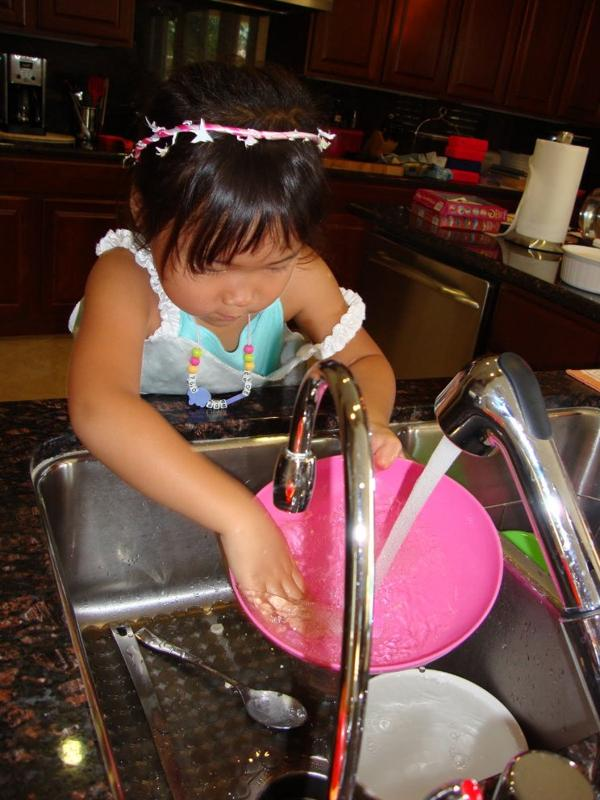person: (68, 41, 398, 633)
